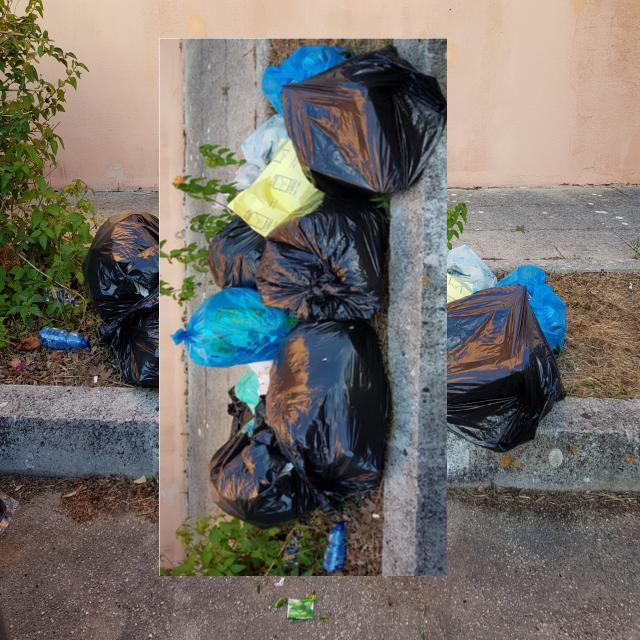Trashbag: (282, 51, 443, 199), (261, 325, 396, 489), (439, 286, 567, 455), (260, 204, 397, 327), (206, 413, 305, 533), (79, 207, 167, 318), (100, 300, 174, 388), (207, 218, 270, 298)
